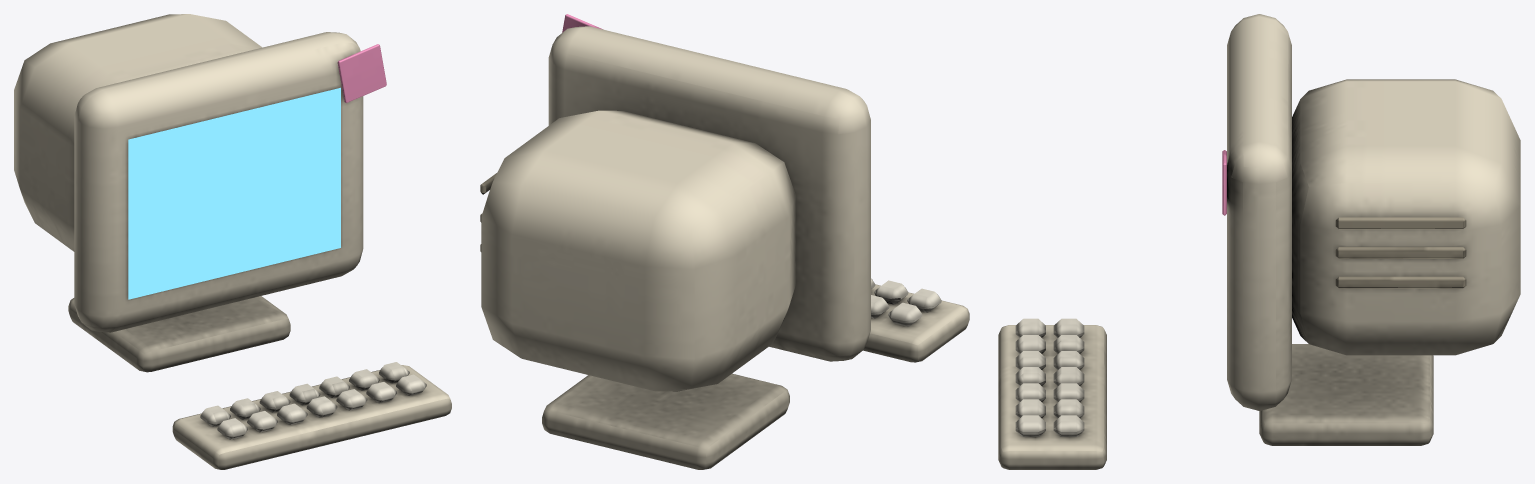
Rendered from intern_station.glb.
3 views of the same model, side by side, from view 1: azimuth 30°, elevation 25°; view 2: azimuth 150°, elevation 25°; view 3: azimuth 270°, elevation 25° (orthographic). The views are drawn at different scales.
Visible parts, largest first — view 1: intern_station; view 2: intern_station; view 3: intern_station.
Boxes of the visible parts, left/top/right/bottom form: intern_station: left=14, top=14, right=451, bottom=469; intern_station: left=480, top=14, right=969, bottom=469; intern_station: left=998, top=14, right=1520, bottom=469.
Size of the model in its own units: 0.3437 by 0.335 by 0.48.
Materials: 5 (4 with a texture image).
